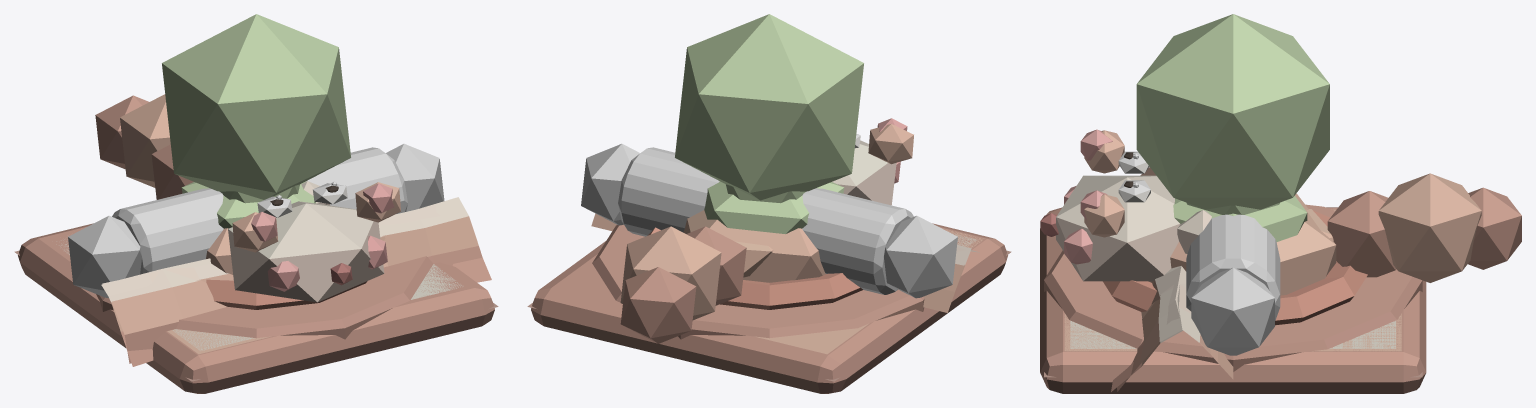
File: clay.glb
3 renders of one model, left to right at view 1: azimuth 30°, elevation 25°; view 2: azimuth 150°, elevation 25°; view 3: azimuth 270°, elevation 25°, orthographic. The views are drawn at different scales.
Parts seen in each view (by area): view 1: tree_a, tile_c, wall, squirrel_body, goal, edge_b, edge_a, squirrel_tail, tile_b, tree_c, tile_a, ball (+3 smaller); view 2: tree_a, wall, tile_c, goal, squirrel_tail, squirrel_body, ball, tree_c, tile_a, edge_a, tree_b; view 3: tree_a, tile_c, goal, squirrel_tail, squirrel_body, wall, ball, edge_a, tile_a, tree_c, tile_b, edge_b (+3 smaller).
Boxes of the visible parts, x1,y1,x2,y2 form: tree_a: [162, 14, 350, 199]; tile_c: [18, 223, 494, 393]; wall: [68, 143, 444, 297]; squirrel_body: [228, 182, 400, 302]; goal: [96, 256, 433, 339]; edge_b: [101, 204, 491, 363]; edge_a: [102, 197, 482, 366]; squirrel_tail: [95, 94, 193, 199]; tile_b: [56, 239, 463, 350]; tree_c: [181, 181, 315, 228]; tile_a: [167, 329, 270, 354]; ball: [206, 181, 330, 274]; tree_a: [675, 14, 863, 200]; wall: [581, 143, 957, 298]; tile_c: [531, 223, 1007, 393]; goal: [592, 224, 924, 339]; squirrel_tail: [620, 226, 746, 343]; squirrel_body: [735, 118, 913, 277]; ball: [683, 210, 825, 282]; tree_c: [704, 181, 844, 234]; tile_a: [755, 228, 984, 354]; edge_a: [923, 244, 971, 312]; tree_b: [726, 184, 805, 203]; tree_a: [1136, 14, 1329, 209]; tile_c: [1040, 207, 1426, 393]; goal: [1044, 204, 1422, 371]; squirrel_tail: [1327, 173, 1521, 282]; squirrel_body: [1040, 129, 1333, 281]; wall: [1186, 214, 1280, 355]; ball: [1148, 193, 1336, 295]; edge_a: [1117, 283, 1232, 391]; tile_a: [1064, 208, 1401, 351]; tree_c: [1173, 196, 1307, 241]; tile_b: [1070, 320, 1395, 348]; edge_b: [1111, 167, 1233, 391].
Size of the model in its own units: 1.19 by 1.1 by 1.27.
